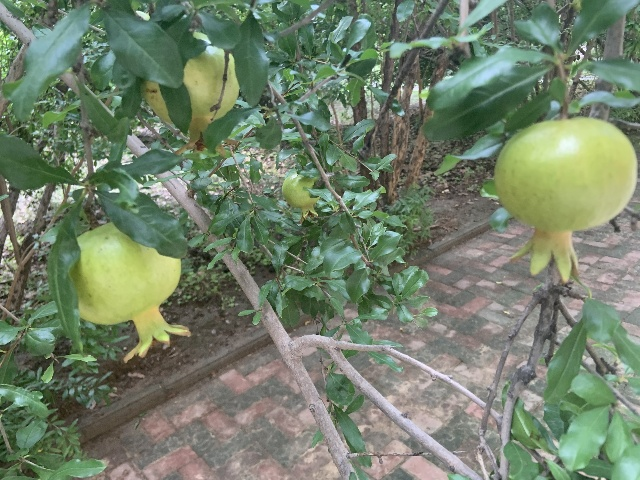mid-growth: (494, 117, 637, 282), (70, 222, 191, 364), (140, 46, 241, 154), (281, 172, 320, 224)
